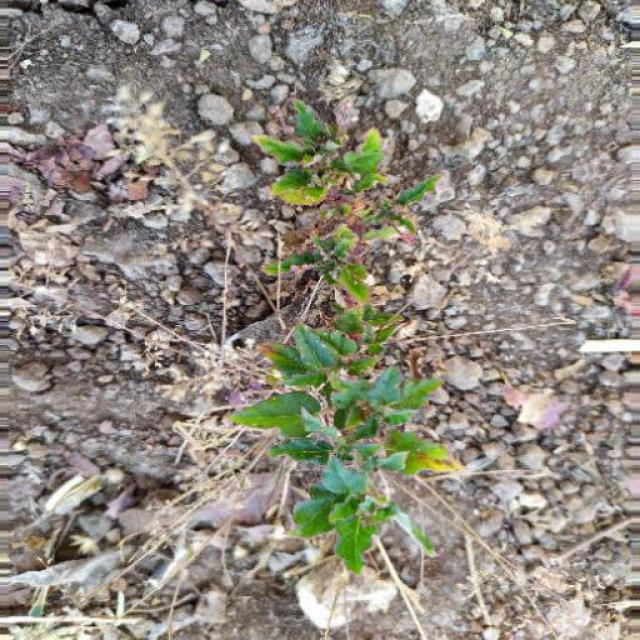weed: (161, 105, 450, 577)
